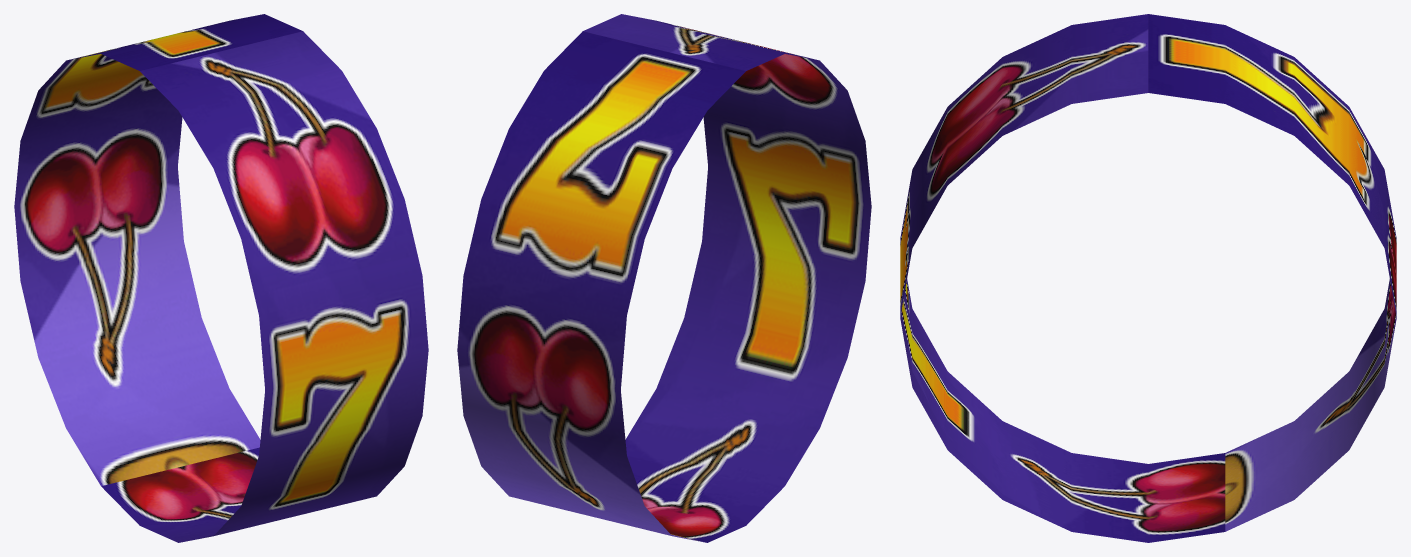
The model's file is slot.glb.
The picture shows the model from 3 angles, left to right: view 1: azimuth 30°, elevation 25°; view 2: azimuth 150°, elevation 25°; view 3: azimuth 270°, elevation 25°; orthographic projection.
Parts seen in each view (by area): view 1: polySurface75; view 2: polySurface75; view 3: polySurface75.
Boxes of the visible parts, bbox=[...] form: polySurface75: bbox=[14, 14, 428, 542]; polySurface75: bbox=[457, 14, 871, 542]; polySurface75: bbox=[900, 14, 1396, 542].
Size of the model in its own units: 0.1197 by 0.3181 by 0.3181.
1 material, 1 textured.
